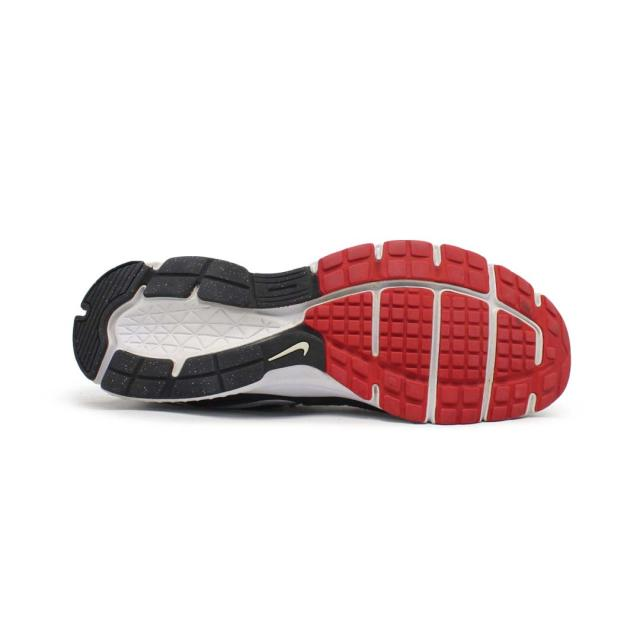outersole: (73, 240, 571, 424)
